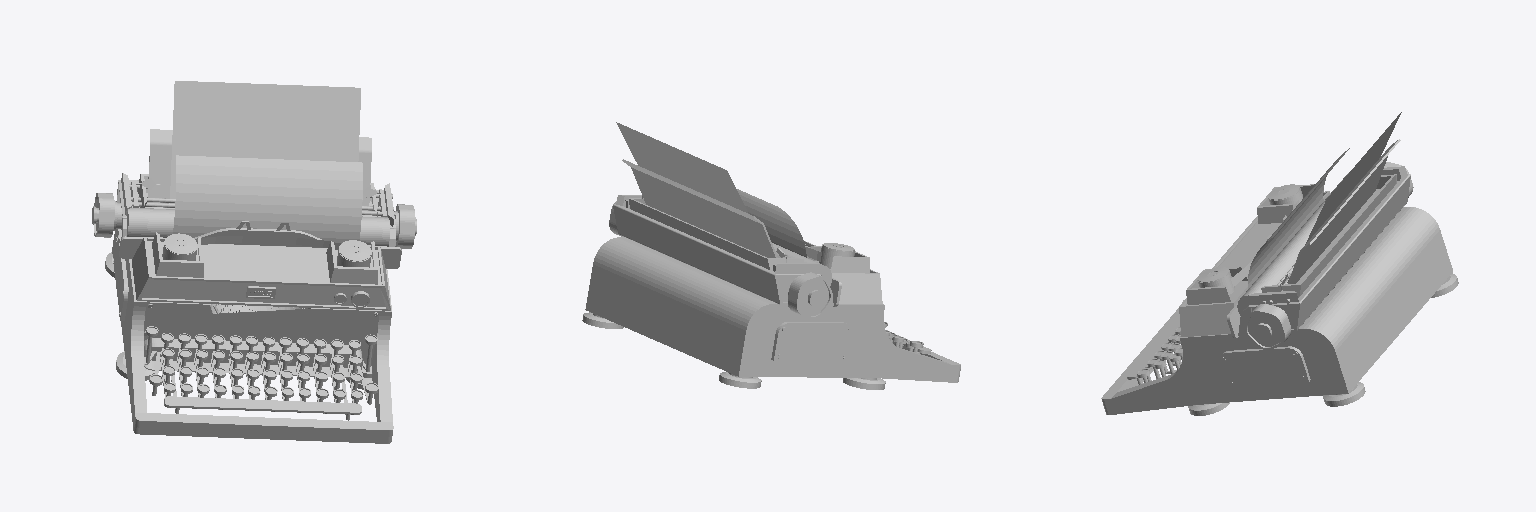
File: typewriter.obj
3 views of the same model, side by side, from view 1: azimuth 30°, elevation 25°; view 2: azimuth 150°, elevation 25°; view 3: azimuth 270°, elevation 25° (orthographic).
Bounding box in the file's own units: 2 × 1.66 × 1.98.